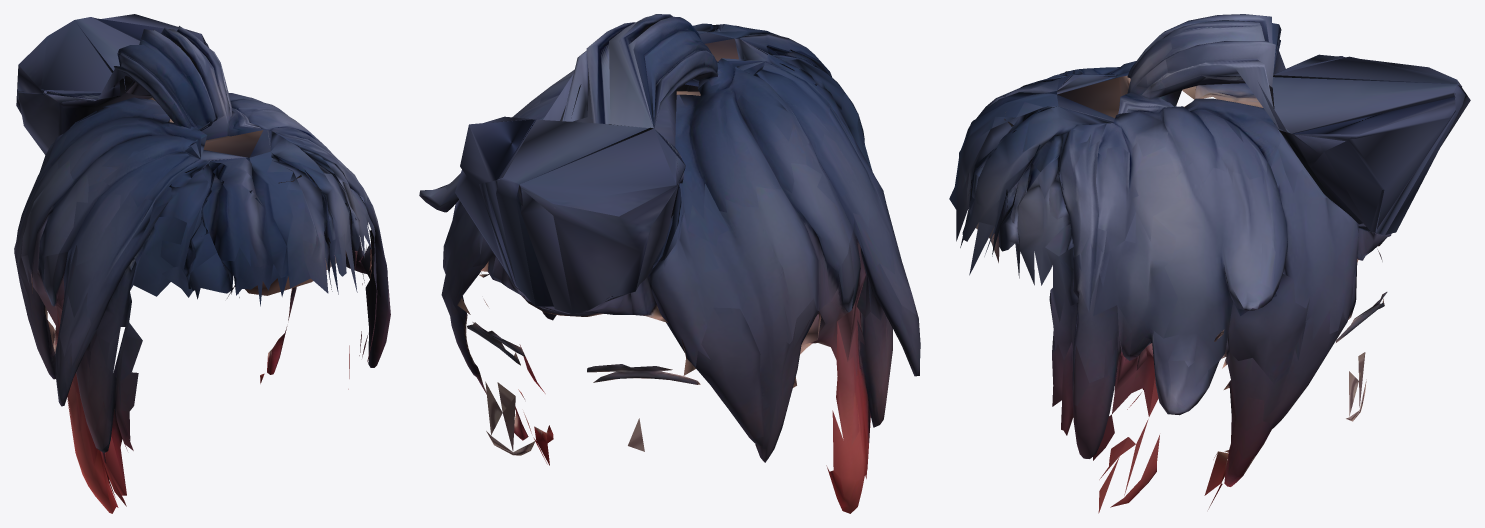
The model's file is pelo_cola.glb.
3 views of the same model, side by side, from view 1: azimuth 30°, elevation 25°; view 2: azimuth 150°, elevation 25°; view 3: azimuth 270°, elevation 25° (orthographic). The views are drawn at different scales.
Parts seen in each view (by area): view 1: pelo_cola; view 2: pelo_cola; view 3: pelo_cola.
Part boxes in pixels (x1,y1,x2,y2): pelo_cola: (14,14,390,513); pelo_cola: (419,14,920,513); pelo_cola: (949,14,1470,513).
Bounding box in the file's own units: 0.2231 × 0.2475 × 0.2506.
Materials: 1 (1 with a texture image).
